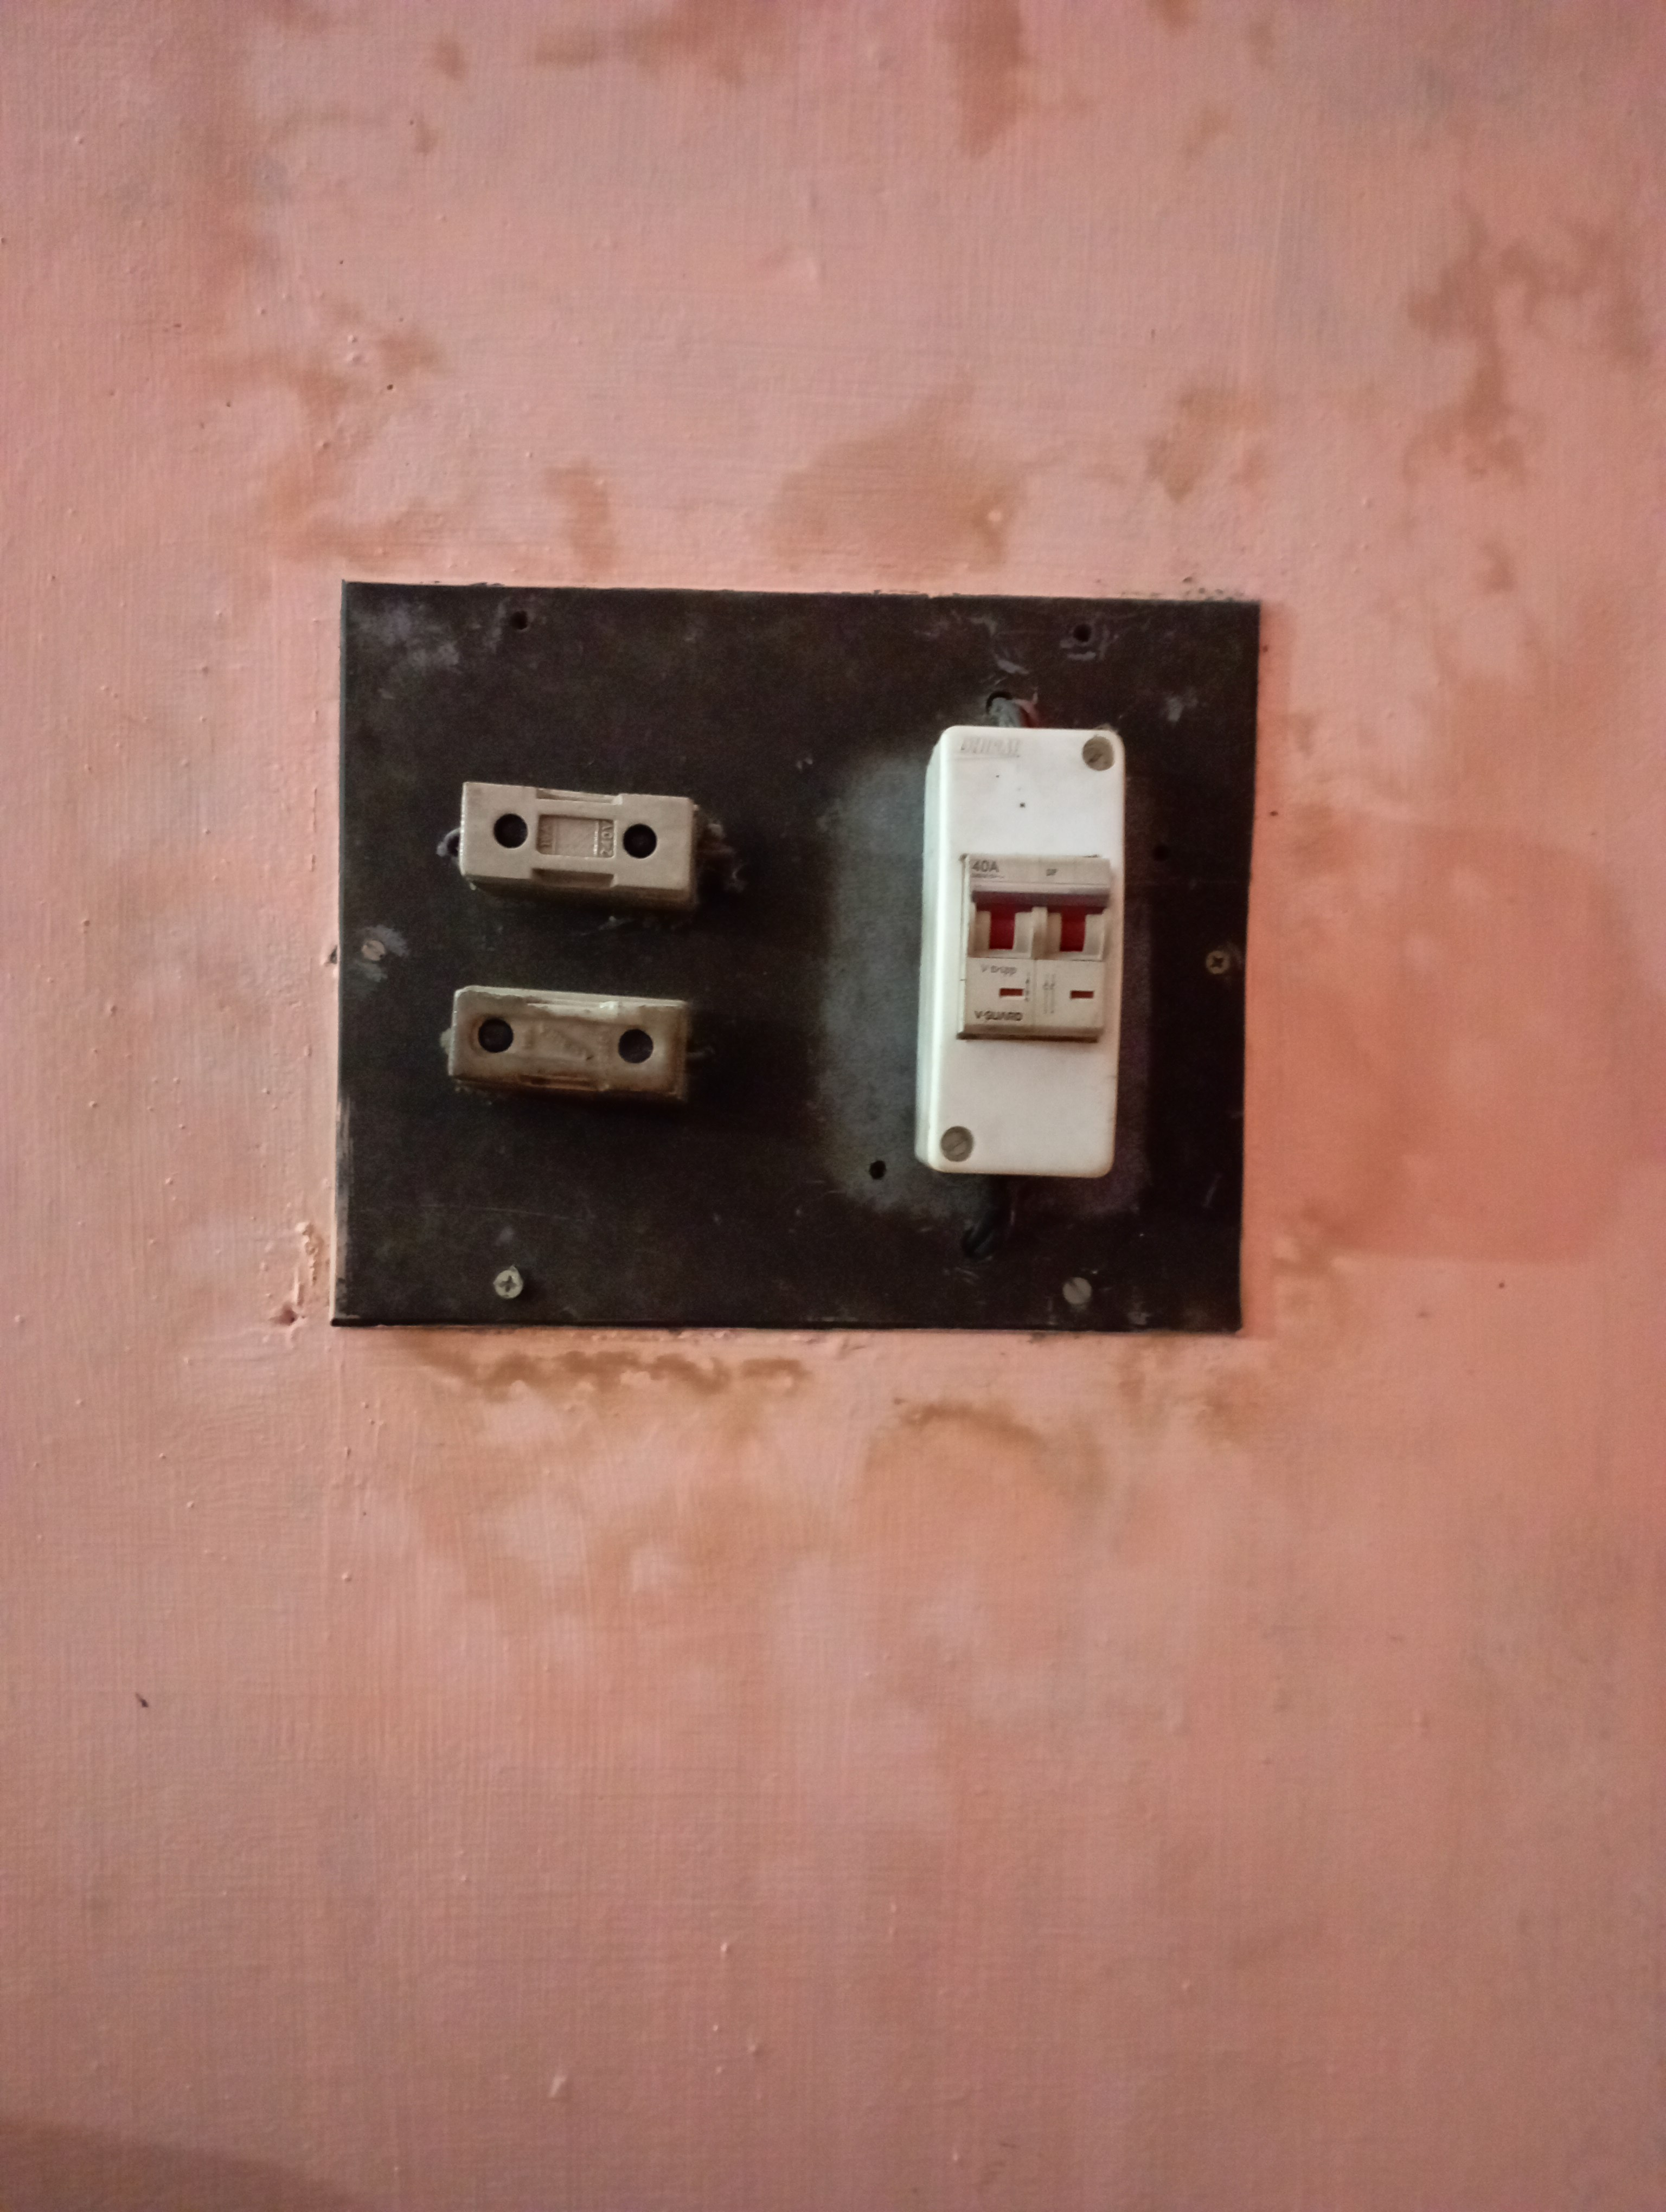ciruit_breaker: (903, 754, 1129, 1186)
fuse: (450, 977, 700, 1110), (441, 780, 696, 904)
